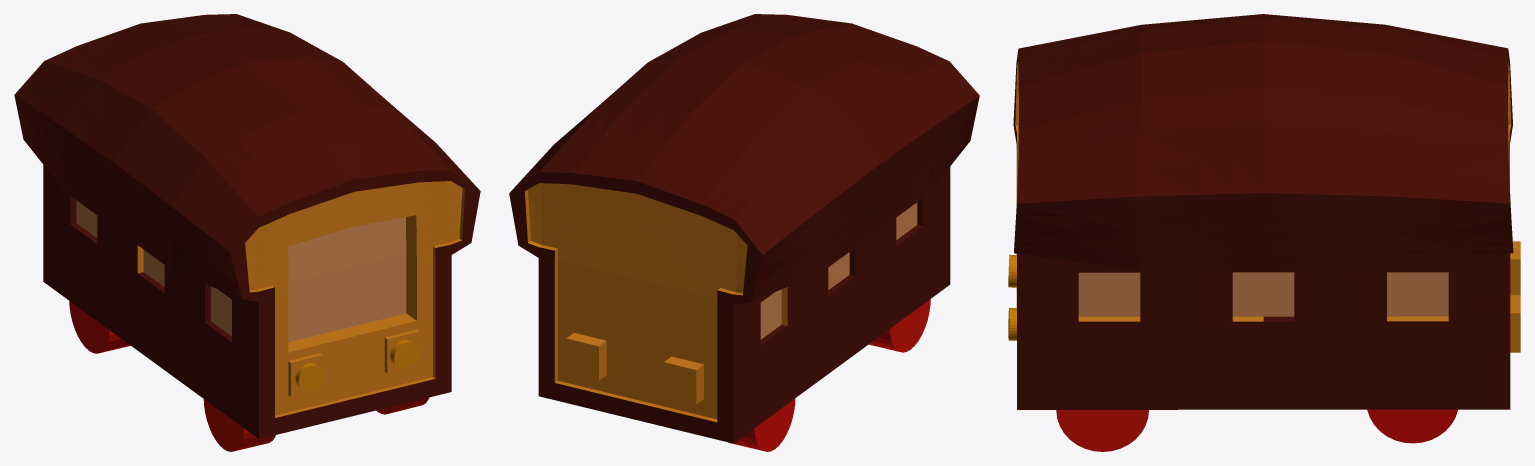
The model's file is breadbus2.obj.
3 views of the same model, side by side, from view 1: azimuth 30°, elevation 25°; view 2: azimuth 150°, elevation 25°; view 3: azimuth 270°, elevation 25° (orthographic). The views are drawn at different scales.
Parts seen in each view (by area): view 1: Cube.001, Cylinder.001, Cylinder.002, Cylinder; view 2: Cube.001, Cylinder.002, Cylinder.001; view 3: Cube.001, Cylinder.001, Cylinder.004, Cylinder.
Boxes of the visible parts, x1,y1,x2,y2 form: Cube.001: (14,14,480,438); Cylinder.001: (203,397,428,451); Cylinder.002: (69,301,130,353); Cylinder: (295,340,418,392); Cube.001: (509,14,979,443); Cylinder.002: (728,398,795,451); Cylinder.001: (869,299,930,352); Cube.001: (1013,14,1520,409); Cylinder.001: (1056,410,1148,451); Cylinder.004: (1367,409,1457,443); Cylinder: (1008,254,1016,340).
Bounding box in the file's own units: 2.74 × 3.05 × 3.95.
